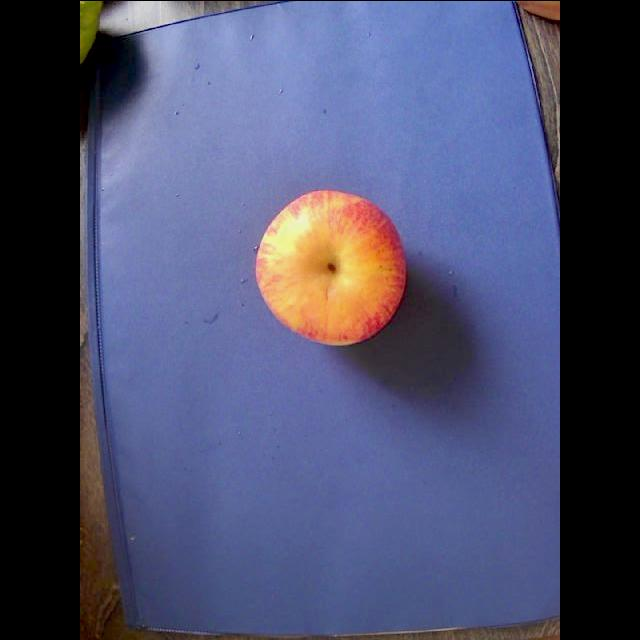manzana: (256, 190, 406, 344)
